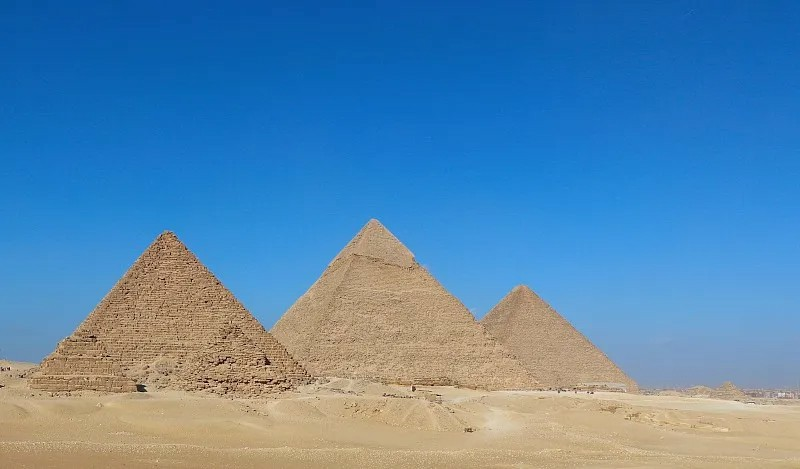Pyramid: (267, 220, 546, 390), (36, 228, 315, 386), (480, 285, 641, 393), (171, 322, 300, 397), (27, 332, 146, 394)
